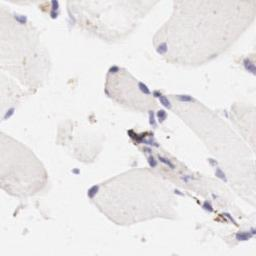nucleus: (154, 91, 172, 108), (244, 59, 256, 77), (213, 168, 229, 181), (224, 211, 237, 226), (157, 110, 169, 126), (145, 136, 159, 149), (159, 155, 174, 167), (51, 1, 60, 20), (176, 93, 193, 103), (88, 185, 101, 198), (202, 199, 214, 213), (235, 232, 253, 241), (4, 108, 16, 120), (155, 43, 168, 54), (139, 81, 149, 95), (147, 153, 157, 167), (148, 110, 156, 127), (16, 15, 28, 24), (108, 65, 120, 73), (207, 157, 218, 165), (181, 174, 192, 182), (174, 188, 183, 195), (72, 168, 80, 175), (105, 90, 109, 96), (224, 112, 227, 116)
positive_cell: (128, 128, 160, 148), (216, 207, 238, 230), (38, 3, 59, 17)
